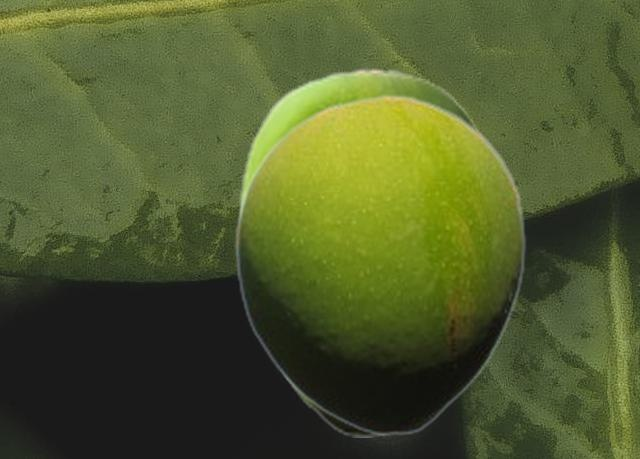green_mango: (234, 94, 526, 436), (237, 67, 489, 436)
